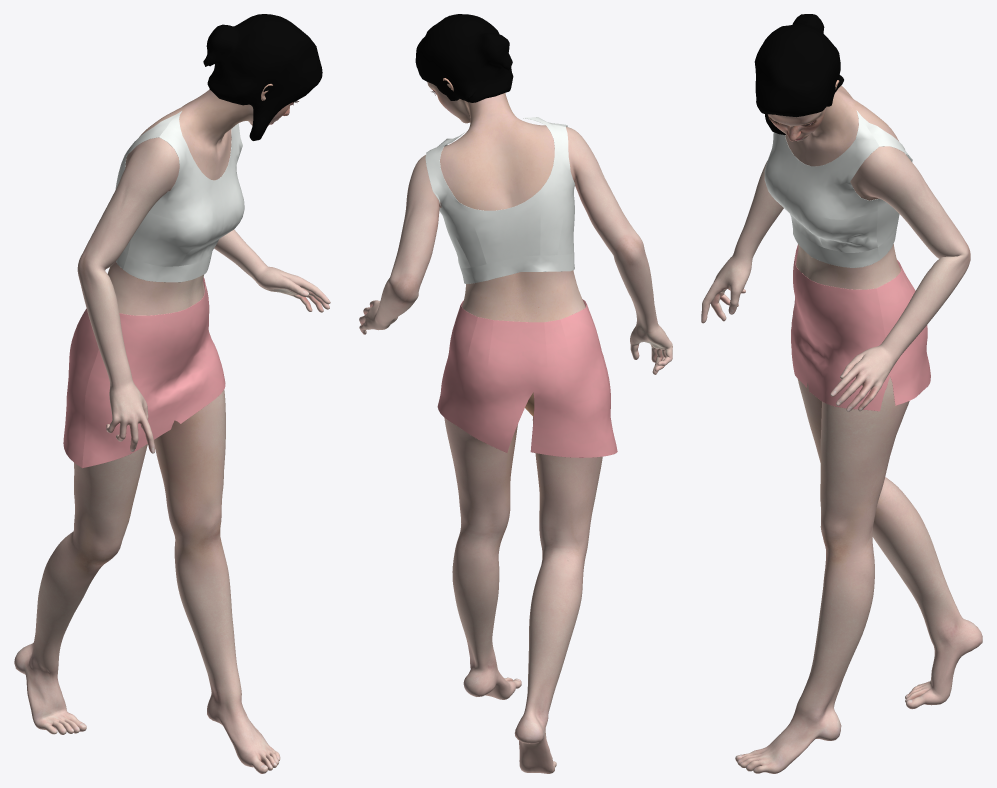
The model's file is Dramatic.obj.
3 renders of one model, left to right at view 1: azimuth 30°, elevation 25°; view 2: azimuth 150°, elevation 25°; view 3: azimuth 270°, elevation 25°, orthographic. The views are drawn at different scales.
Bounding box in the file's own units: 683 × 1739 × 590.
